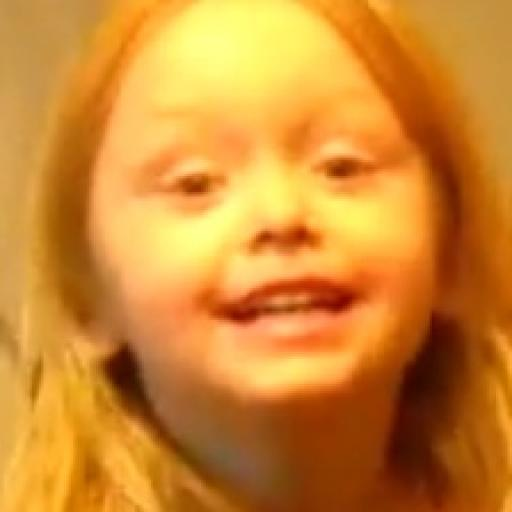Autism: (30, 18, 512, 481)
